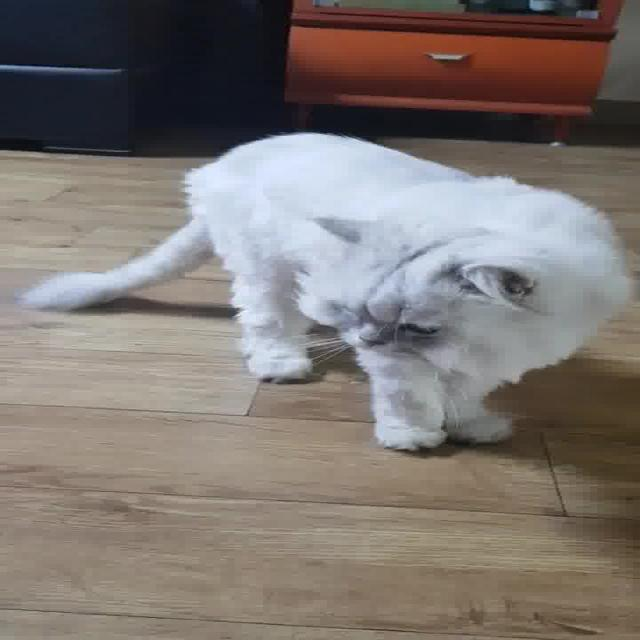cat: (0, 119, 640, 467)
